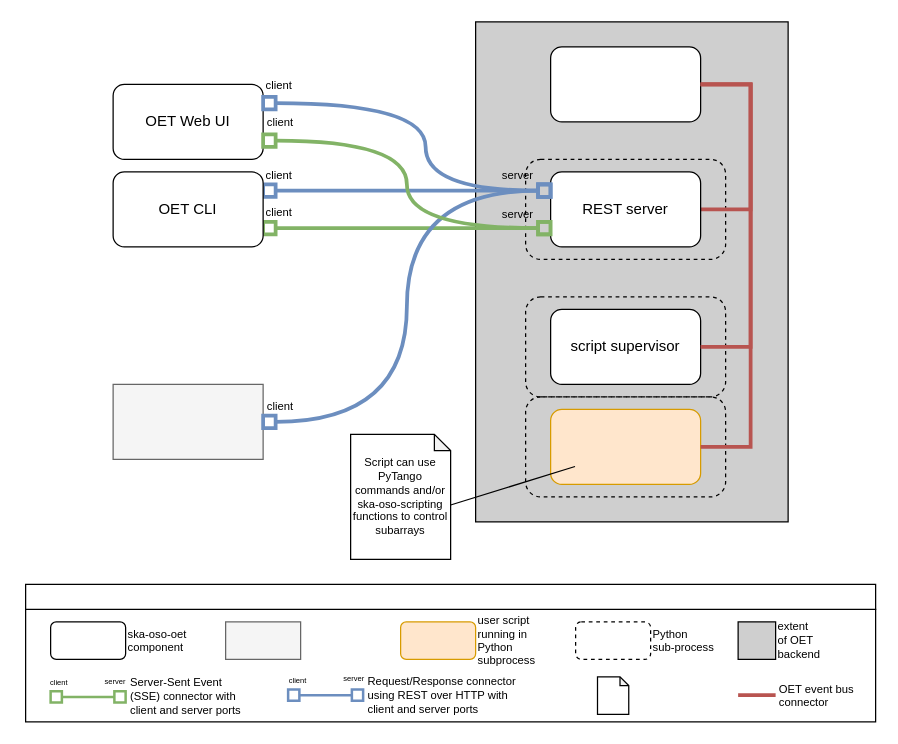
Image size: 898x744. Some labels were removed from this diagram. Each missing label, with the centre of its shape:
"Key" goes at [450,596].
"main" goes at [625,84].
"note" goes at [612,695].
"Observation Scheduling Tool (ska-oso-ost)" goes at [187,421].
"other OSO component" goes at [262,640].
"script process" goes at [625,446].
